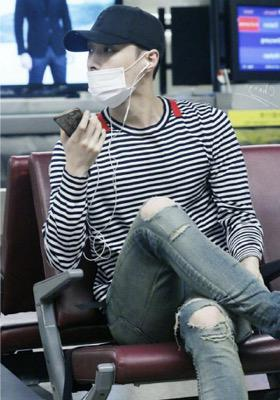mask_weared_incorrect: (86, 43, 147, 108)
